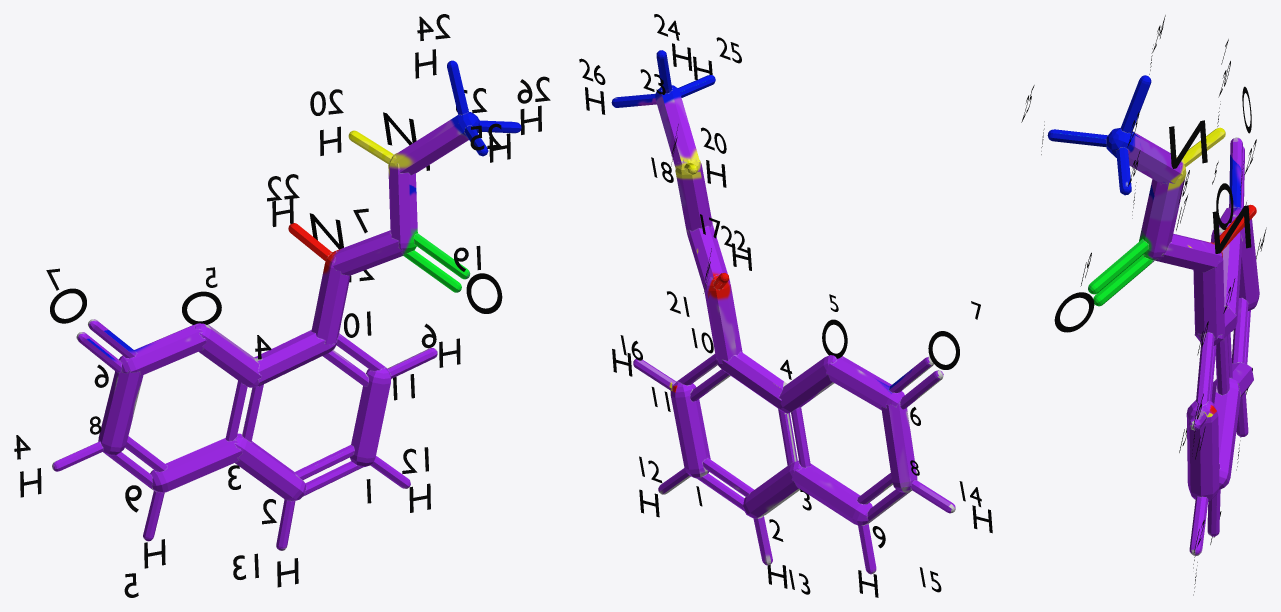
The model's file is molecule3.fbx.
3 renders of one model, left to right at view 1: azimuth 30°, elevation 25°; view 2: azimuth 150°, elevation 25°; view 3: azimuth 270°, elevation 25°, orthographic. The views are drawn at different scales.
Visible parts, largest first — view 1: Coumarin_13; view 2: Coumarin_13; view 3: Coumarin_13, Text.003, Text.004, Text.
Boxes of the visible parts, x1,y1,x2,y2 form: Coumarin_13: (52, 60, 521, 550); Coumarin_13: (611, 50, 955, 574); Coumarin_13: (1047, 75, 1259, 555); Text.003: (1169, 120, 1207, 168); Text.004: (1212, 205, 1251, 253); Text: (1054, 292, 1094, 332).
Size of the model in its own units: 971 by 1064 by 383.
Materials: 5 (1 with a texture image).
